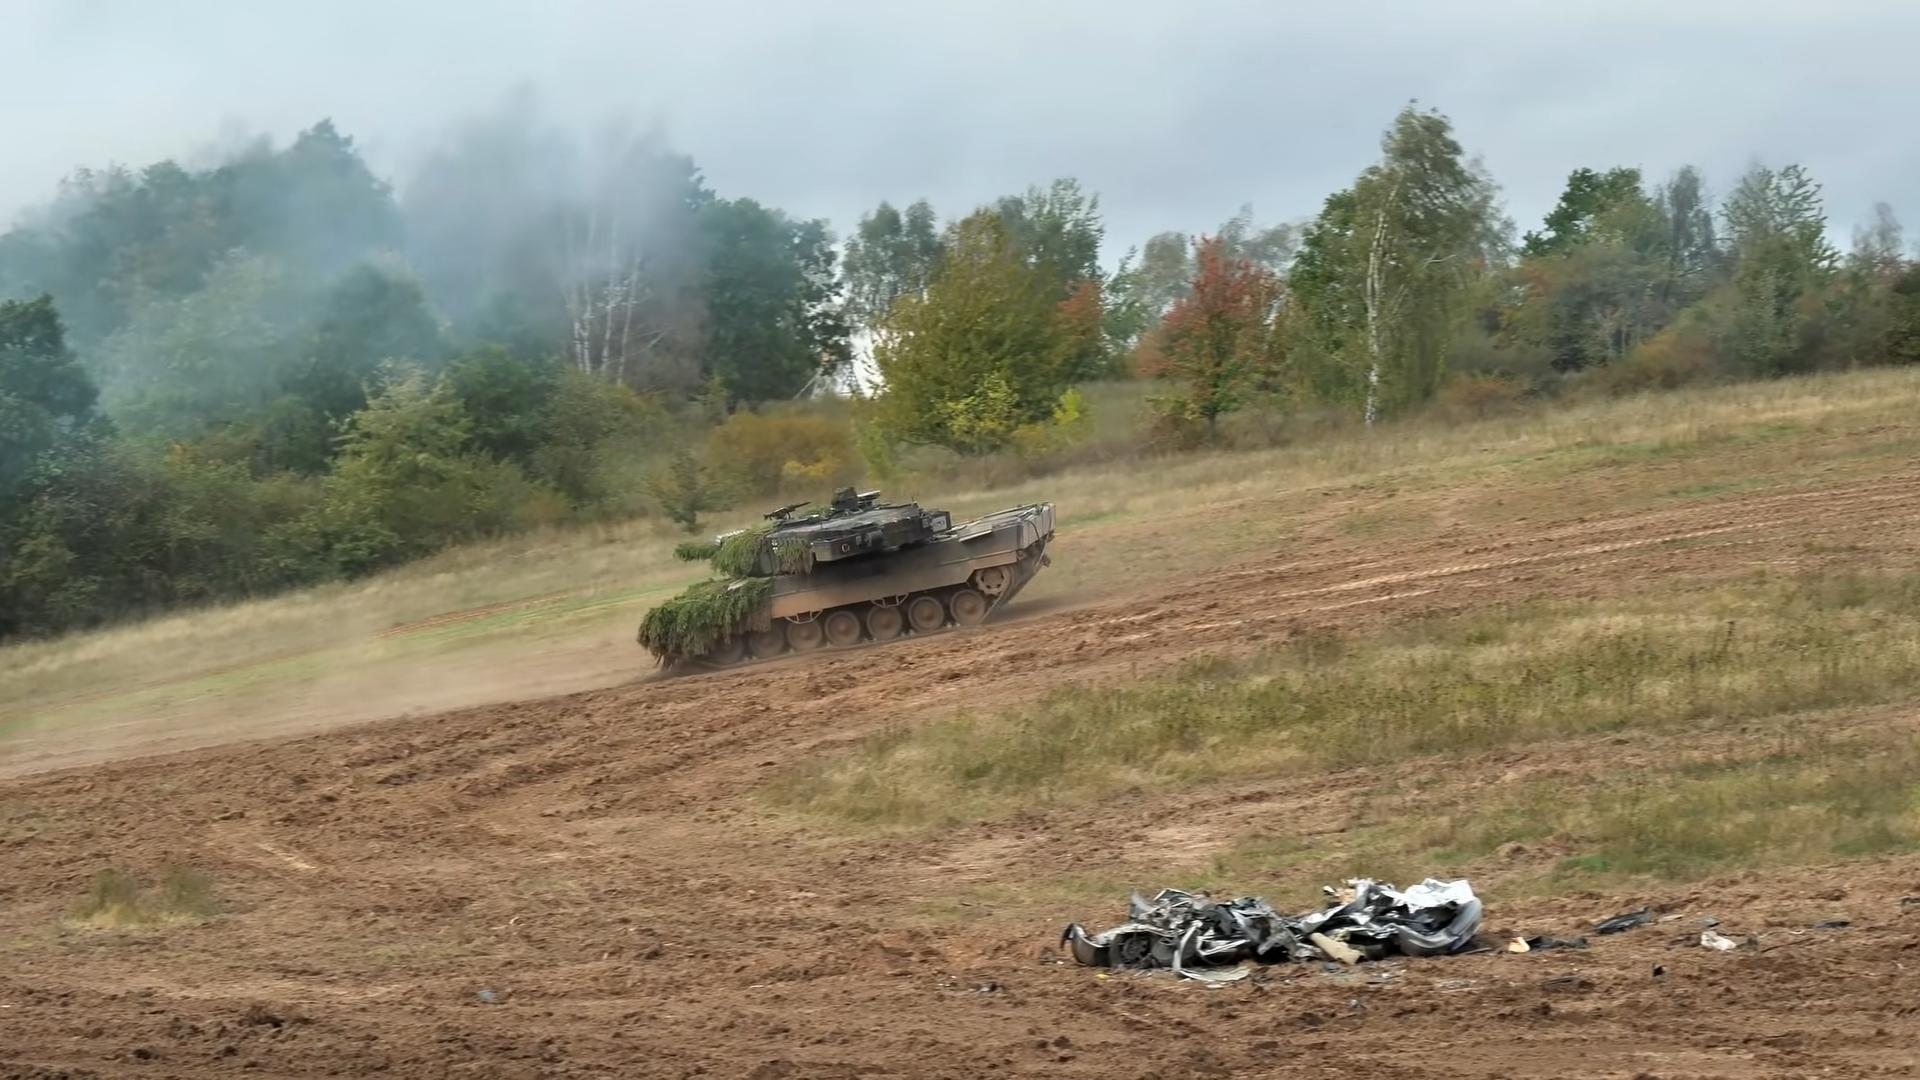tank: (645, 489, 1055, 670)
